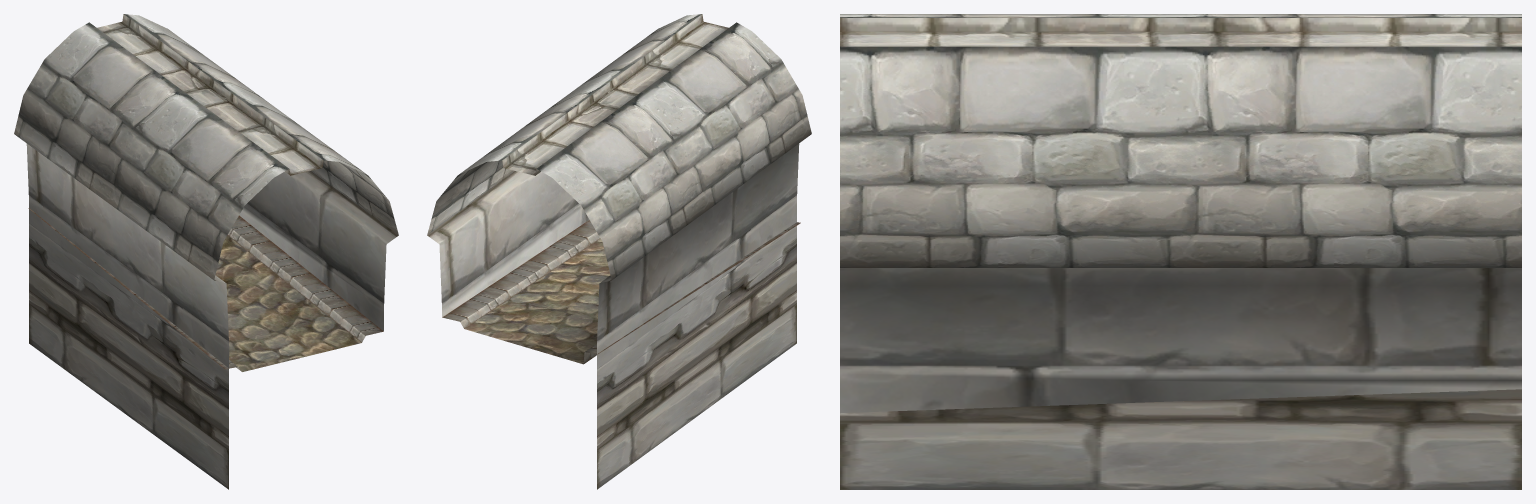
File: stormwind_035.fbx
3 renders of one model, left to right at view 1: azimuth 30°, elevation 25°; view 2: azimuth 150°, elevation 25°; view 3: azimuth 270°, elevation 25°, orthographic. The views are drawn at different scales.
Parts seen in each view (by area): view 1: stormwind_035_11, stormwind_035_4, stormwind_035_46, stormwind_035_5, stormwind_035_12; view 2: stormwind_035_11, stormwind_035_4, stormwind_035_46, stormwind_035_5, stormwind_035_12; view 3: stormwind_035_4, stormwind_035_11, stormwind_035_5.
Part boxes in pixels (box(x1,y1,x2,y2)): stormwind_035_11: box(26, 143, 398, 489); stormwind_035_4: box(14, 14, 398, 280); stormwind_035_46: box(215, 235, 361, 371); stormwind_035_5: box(97, 14, 323, 175); stormwind_035_12: box(28, 208, 383, 371); stormwind_035_11: box(427, 143, 799, 489); stormwind_035_4: box(427, 14, 811, 279); stormwind_035_46: box(464, 239, 610, 364); stormwind_035_5: box(502, 14, 728, 175); stormwind_035_12: box(442, 220, 800, 363); stormwind_035_4: box(840, 14, 1521, 267); stormwind_035_11: box(840, 268, 1521, 489); stormwind_035_5: box(840, 18, 1521, 46).
Size of the model in its own units: 10.07 by 15.95 by 18.89.
